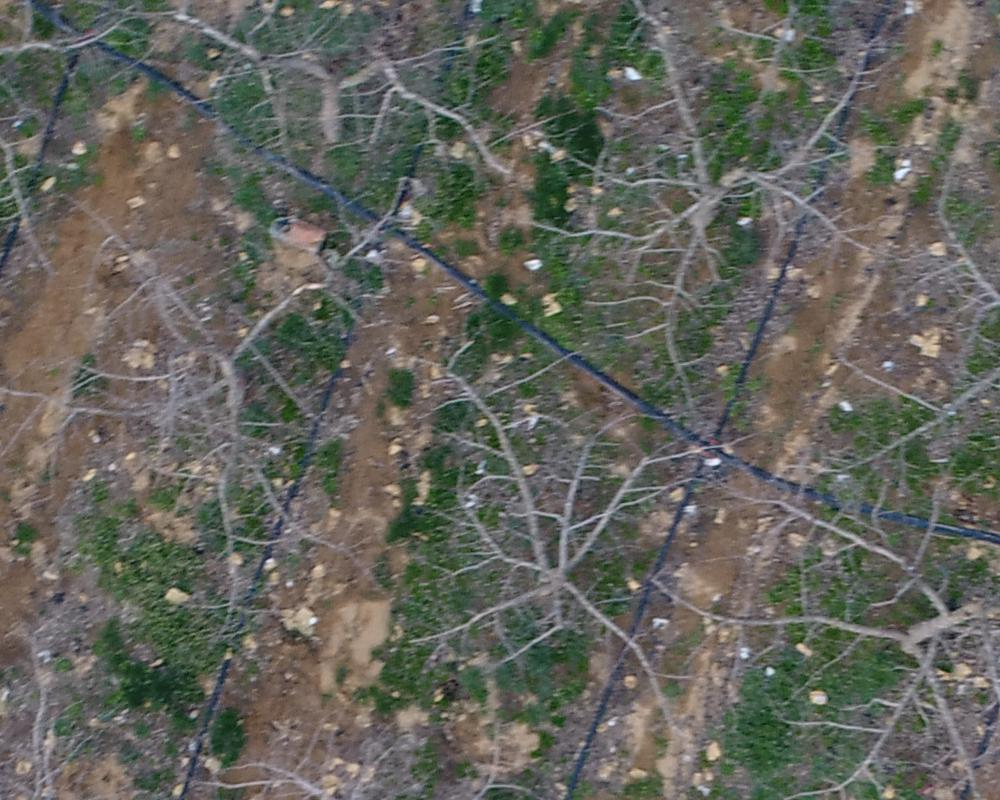apple: (10, 175, 419, 624), (496, 10, 891, 424), (388, 345, 702, 777), (641, 474, 990, 790), (84, 10, 535, 209), (805, 50, 990, 512)
